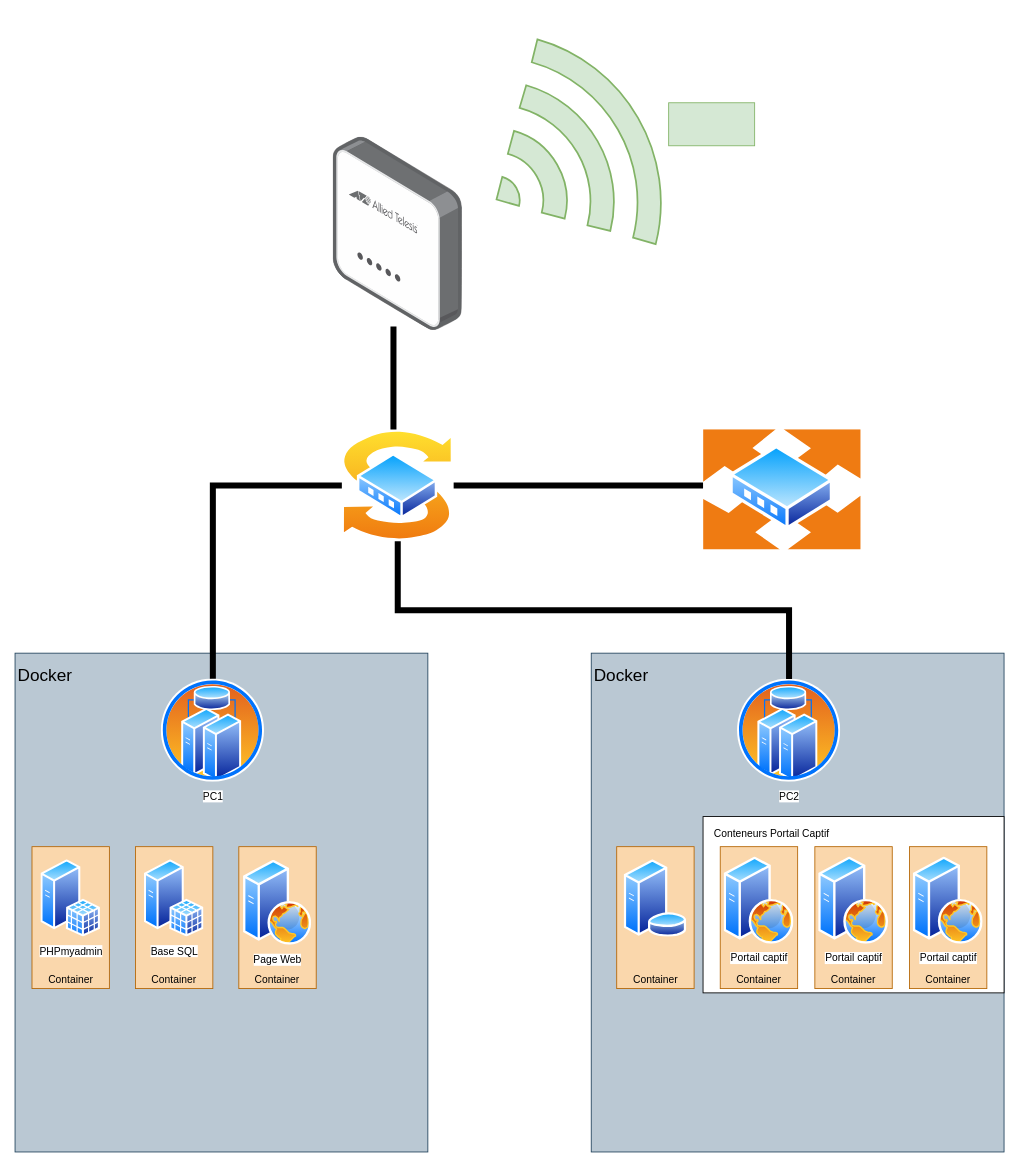
Image size: 1019x1168. Some labels were removed from this diagram. Here are the shapes that lost their labels. From the top down, the box of each, then its label:
(668, 102, 755, 146): Wifi Invité
(623, 859, 687, 937): Asterisk
